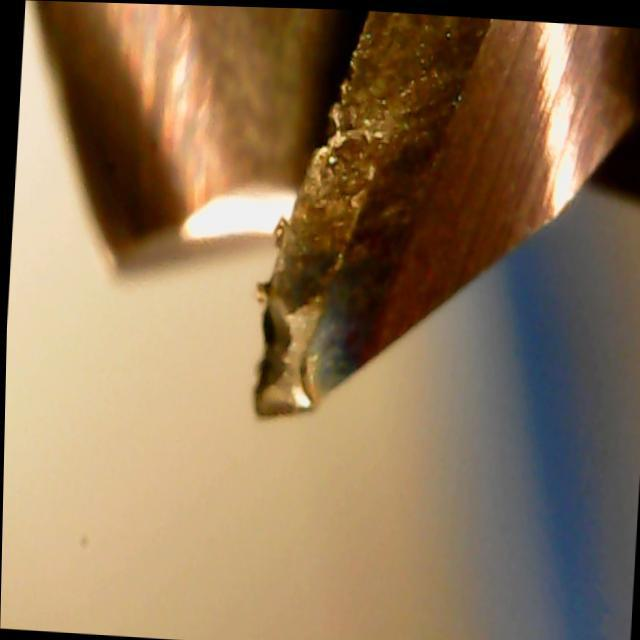Tool-wear-class-2: (241, 50, 390, 428)
